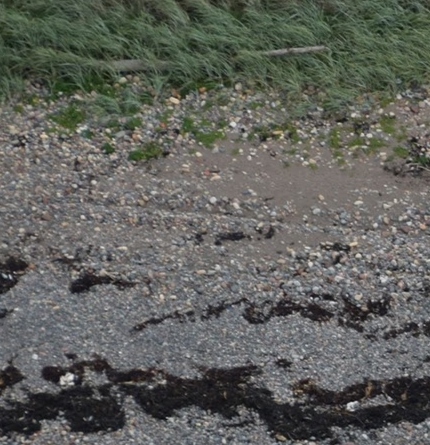straight_bar: (93, 51, 181, 78), (253, 37, 330, 65)
